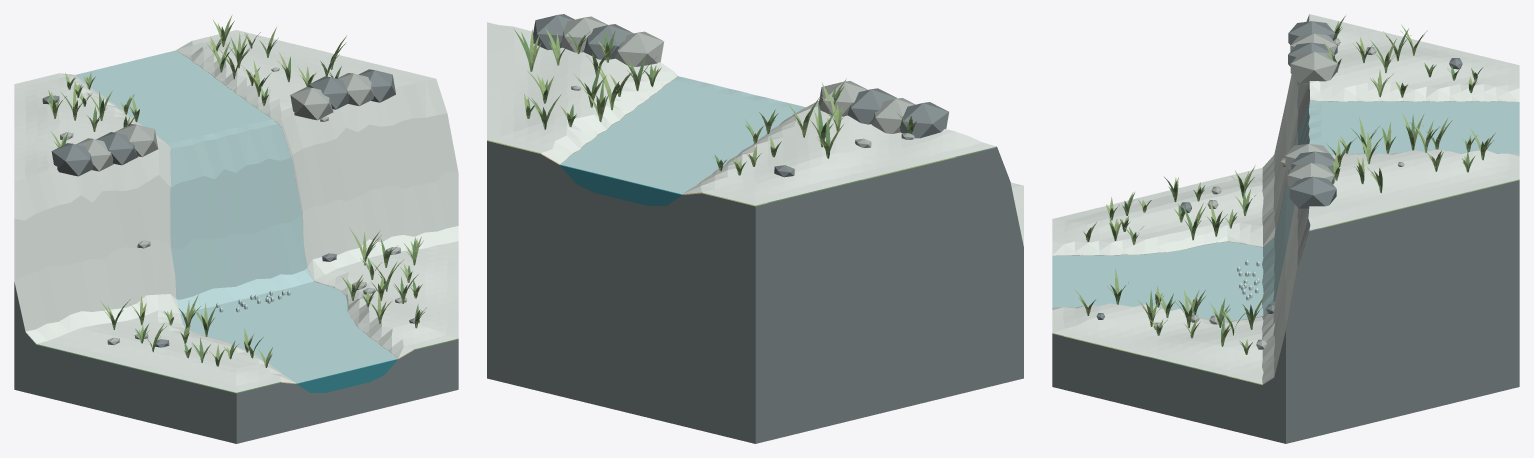
File: waterfall.glb
3 renders of one model, left to right at view 1: azimuth 30°, elevation 25°; view 2: azimuth 150°, elevation 25°; view 3: azimuth 270°, elevation 25°, orthographic. The views are drawn at different scales.
Visible parts, largest first — view 1: SnowPatch.005_mesh, HydroscapeRoot_mesh, FrozenWater.004_mesh, SnowPatch.004_mesh, SnowPatch.003_mesh, SnowPatch.001_mesh, SnowPatch.002_mesh, SnowPatch_mesh, FrozenWater.003_mesh, FrozenWater.002_mesh, FrozenWater.001_mesh, FrozenWater_mesh (+1 smaller); view 2: HydroscapeRoot_mesh, SnowPatch.005_mesh, FrozenWater.004_mesh, SnowPatch.004_mesh, SnowPatch.003_mesh, SnowPatch.002_mesh, SnowPatch.001_mesh, SnowPatch_mesh, FrozenWater.001_mesh, FrozenWater_mesh, FrozenWater.003_mesh, FrozenWater.002_mesh (+1 smaller); view 3: HydroscapeRoot_mesh, SnowPatch.005_mesh, FrozenWater.004_mesh, SnowPatch.004_mesh, SnowPatch.003_mesh, SnowPatch.001_mesh, SnowPatch.002_mesh, SnowPatch_mesh, FrozenWater.003_mesh, FrozenWater.001_mesh, FrozenWater.002_mesh, FrozenWater_mesh (+1 smaller).
Boxes of the visible parts, x1=… form: SnowPatch.005_mesh: x1=14, y1=35, x2=458, y2=387; HydroscapeRoot_mesh: x1=14, y1=67, x2=458, y2=443; FrozenWater.004_mesh: x1=75, y1=68, x2=397, y2=365; SnowPatch.004_mesh: x1=14, y1=37, x2=458, y2=385; SnowPatch.003_mesh: x1=14, y1=33, x2=458, y2=389; SnowPatch.001_mesh: x1=14, y1=30, x2=458, y2=392; SnowPatch.002_mesh: x1=14, y1=32, x2=458, y2=389; SnowPatch_mesh: x1=14, y1=30, x2=458, y2=392; FrozenWater.003_mesh: x1=104, y1=50, x2=369, y2=383; FrozenWater.002_mesh: x1=126, y1=52, x2=357, y2=381; FrozenWater.001_mesh: x1=118, y1=53, x2=354, y2=380; FrozenWater_mesh: x1=133, y1=57, x2=339, y2=376; HydroscapeRoot_mesh: x1=487, y1=14, x2=1023, y2=443; SnowPatch.005_mesh: x1=487, y1=41, x2=1023, y2=247; FrozenWater.004_mesh: x1=620, y1=76, x2=753, y2=194; SnowPatch.004_mesh: x1=487, y1=37, x2=1023, y2=246; SnowPatch.003_mesh: x1=487, y1=22, x2=1023, y2=218; SnowPatch.002_mesh: x1=487, y1=25, x2=1023, y2=231; SnowPatch.001_mesh: x1=487, y1=30, x2=1023, y2=225; SnowPatch_mesh: x1=487, y1=26, x2=1023, y2=224; FrozenWater.001_mesh: x1=572, y1=95, x2=797, y2=181; FrozenWater_mesh: x1=581, y1=98, x2=783, y2=177; FrozenWater.003_mesh: x1=560, y1=88, x2=758, y2=185; FrozenWater.002_mesh: x1=567, y1=91, x2=805, y2=175; HydroscapeRoot_mesh: x1=1052, y1=21, x2=1519, y2=443; SnowPatch.005_mesh: x1=1052, y1=28, x2=1519, y2=375; FrozenWater.004_mesh: x1=1052, y1=101, x2=1519, y2=314; SnowPatch.004_mesh: x1=1052, y1=21, x2=1519, y2=378; SnowPatch.003_mesh: x1=1052, y1=15, x2=1519, y2=383; SnowPatch.001_mesh: x1=1052, y1=20, x2=1519, y2=381; SnowPatch.002_mesh: x1=1052, y1=14, x2=1519, y2=384; SnowPatch_mesh: x1=1053, y1=17, x2=1518, y2=381; FrozenWater.003_mesh: x1=1052, y1=101, x2=1519, y2=321; FrozenWater.001_mesh: x1=1052, y1=101, x2=1519, y2=312; FrozenWater.002_mesh: x1=1052, y1=100, x2=1519, y2=318; FrozenWater_mesh: x1=1052, y1=101, x2=1519, y2=310.
Bounding box in the file's own units: 3.5 × 1.76 × 3.03.
